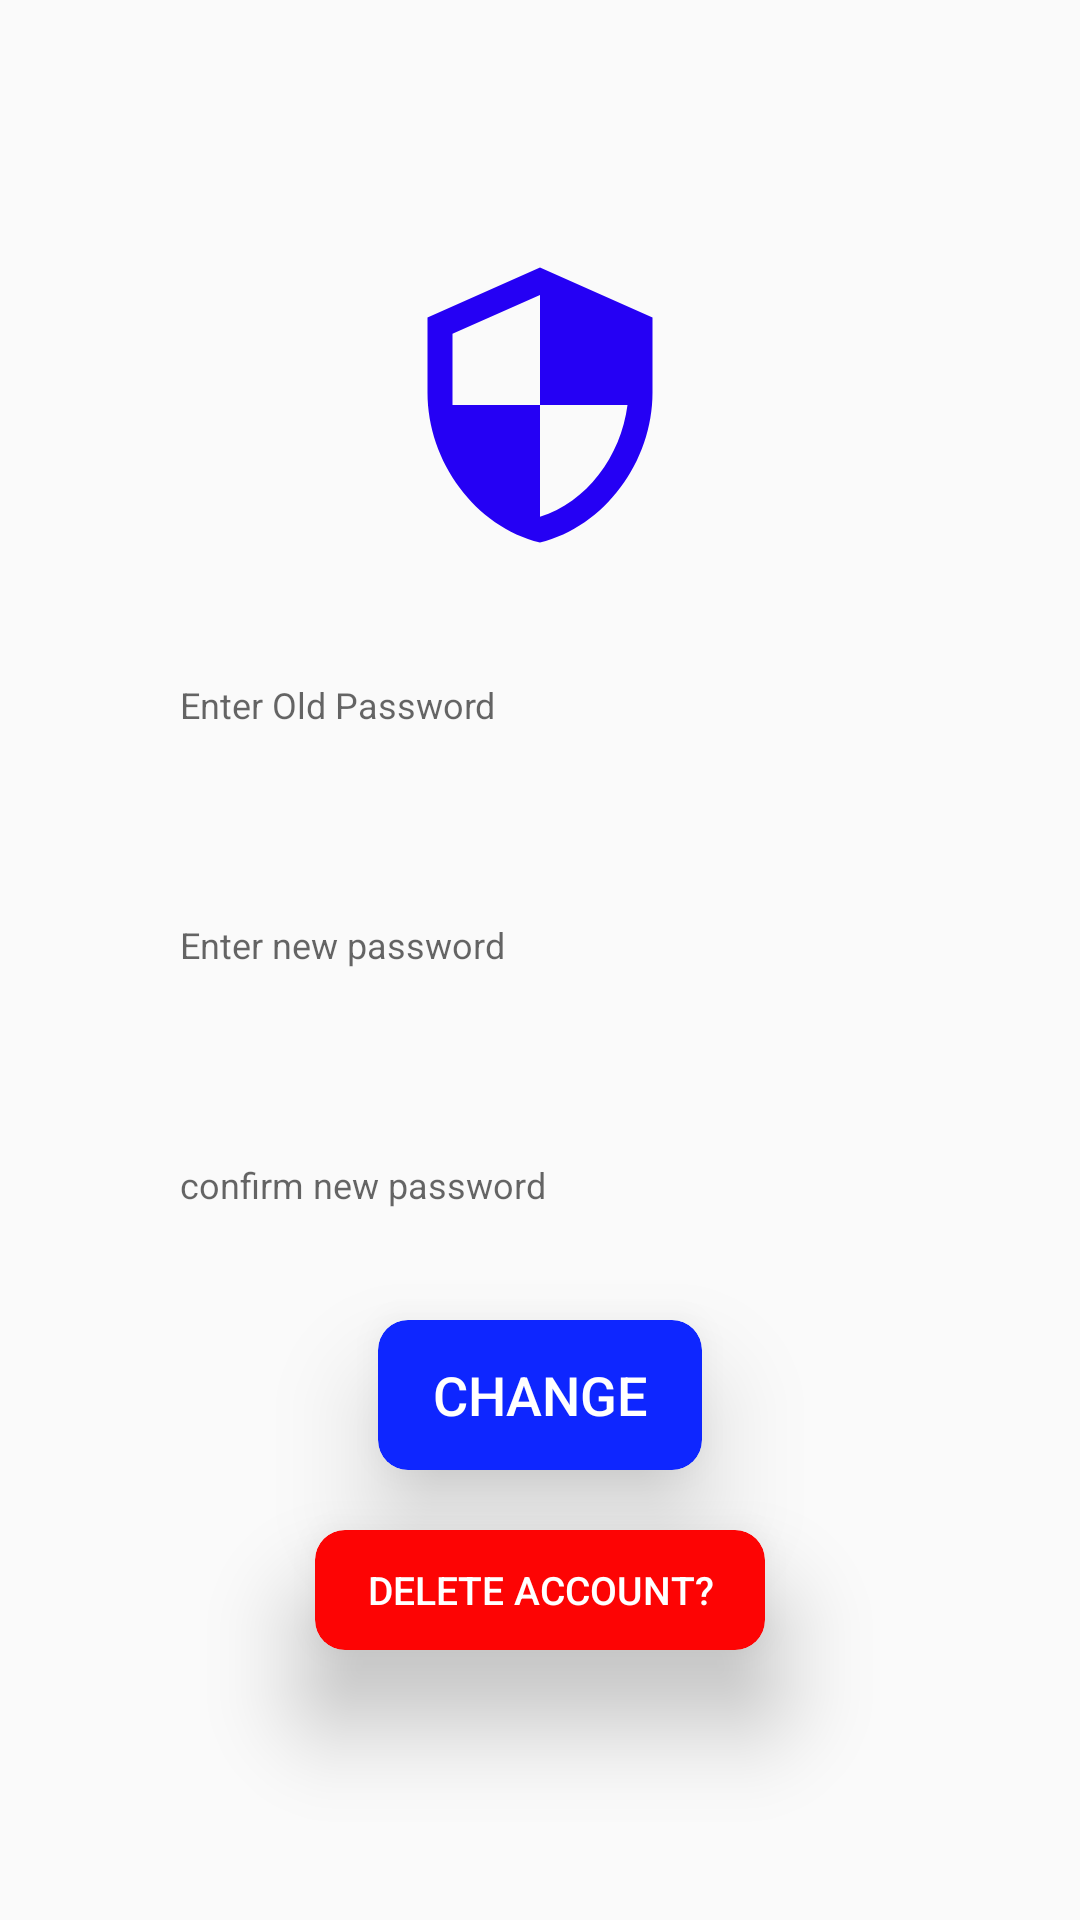

Locate icon controls on the screen. Image size 1080*1920, boxes as (x1, y1, x2, y2).
security: (427, 267, 653, 543)
